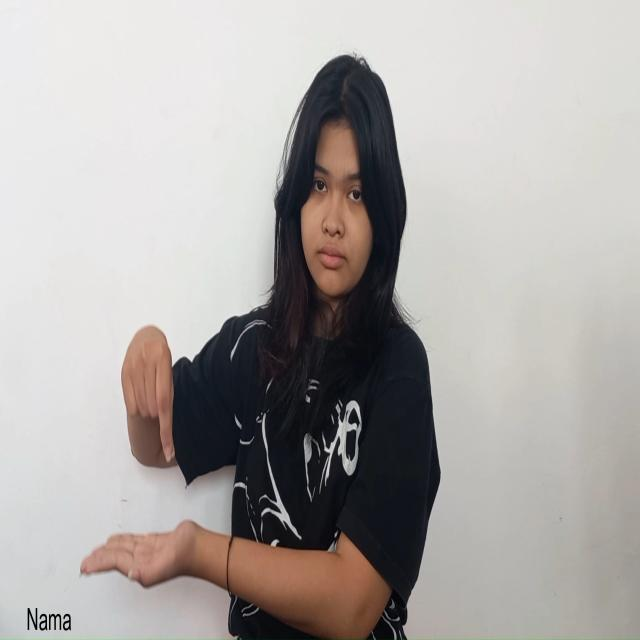Nama -BISINDO-: (79, 322, 199, 592)
